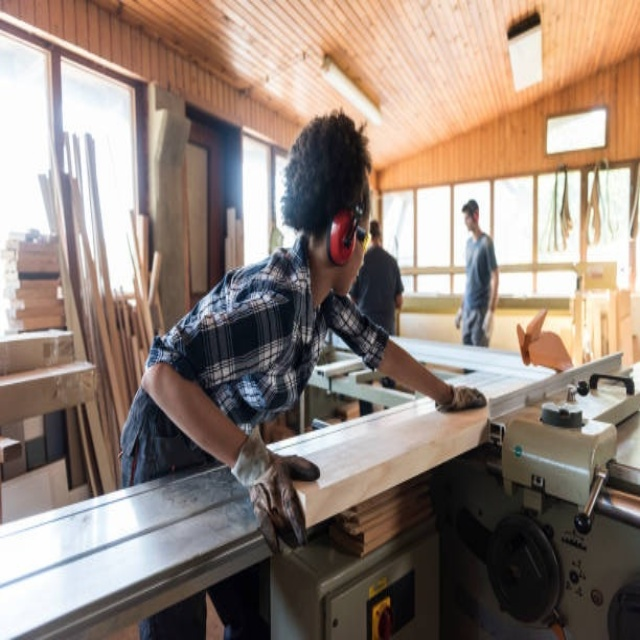Gafas: (357, 220, 373, 254)
Guantes: (231, 422, 323, 554), (426, 372, 488, 413)
Sin_mascara: (337, 259, 365, 296)
